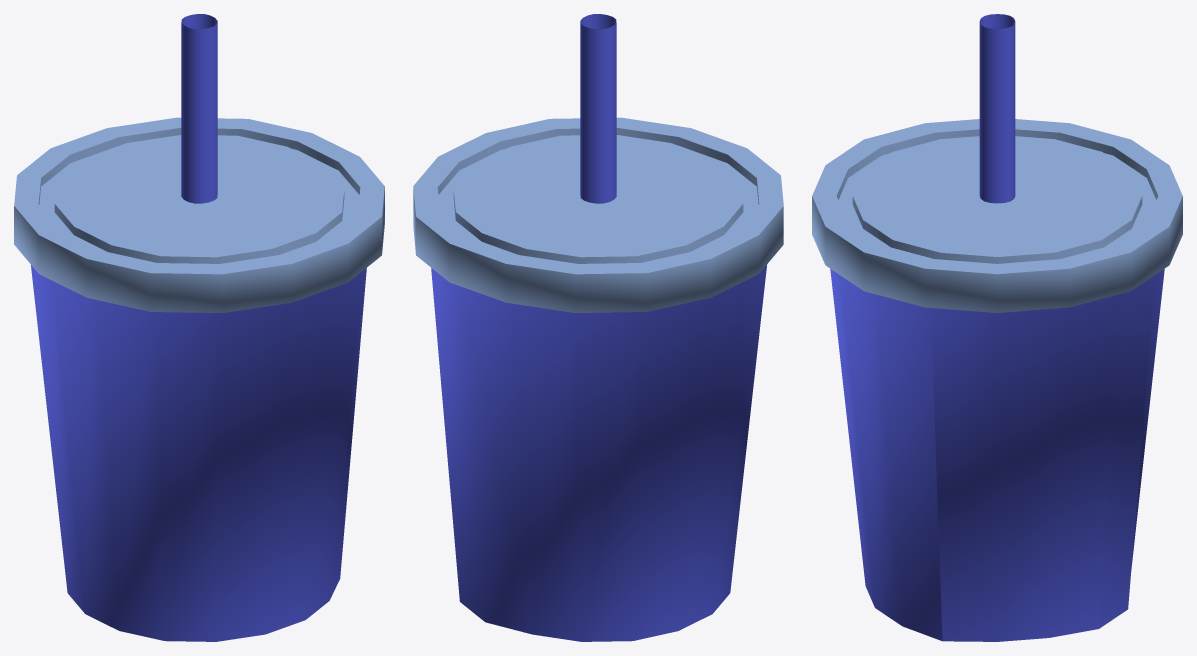
The model's file is icecek_tekli.fbx.
The picture shows the model from 3 angles, left to right: view 1: azimuth 30°, elevation 25°; view 2: azimuth 150°, elevation 25°; view 3: azimuth 270°, elevation 25°; orthographic projection.
Visible parts, largest first — view 1: beverage.004; view 2: beverage.004; view 3: beverage.004.
Part boxes in pixels (x1,y1,x2,y2): beverage.004: (14,14,384,641); beverage.004: (413,14,783,641); beverage.004: (812,14,1182,641).
Bounding box in the file's own units: 116 × 195 × 116.
